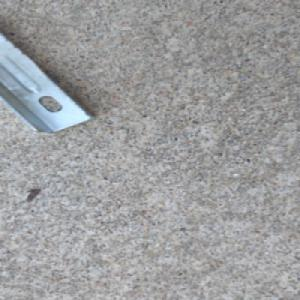ClampPart: (0, 30, 97, 134)
